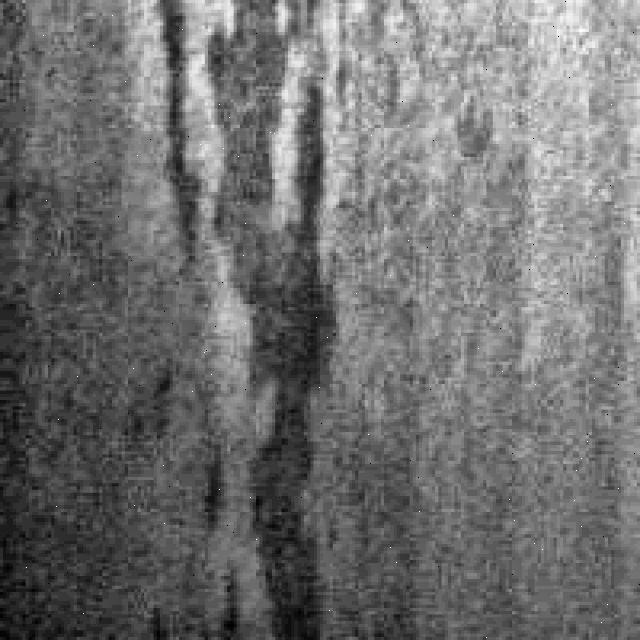Patches: (172, 0, 342, 621), (131, 0, 227, 285)
